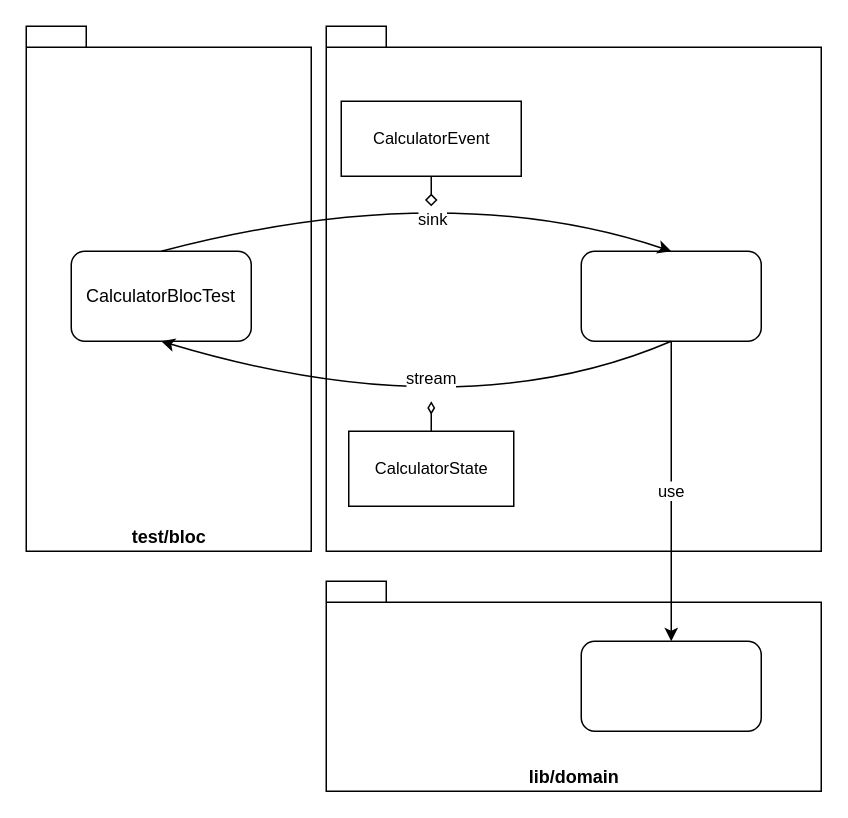
Image size: 848x818. Some labels were removed from this diagram. The shapes that lost their labels are listed below. From the top down, each one's box as (x1, y1, x2, y2) in pixels, then its label:
(325, 25, 821, 551): lib/bloc
(580, 250, 761, 341): CalculatorBloc
(580, 640, 761, 731): BmiCalculator
